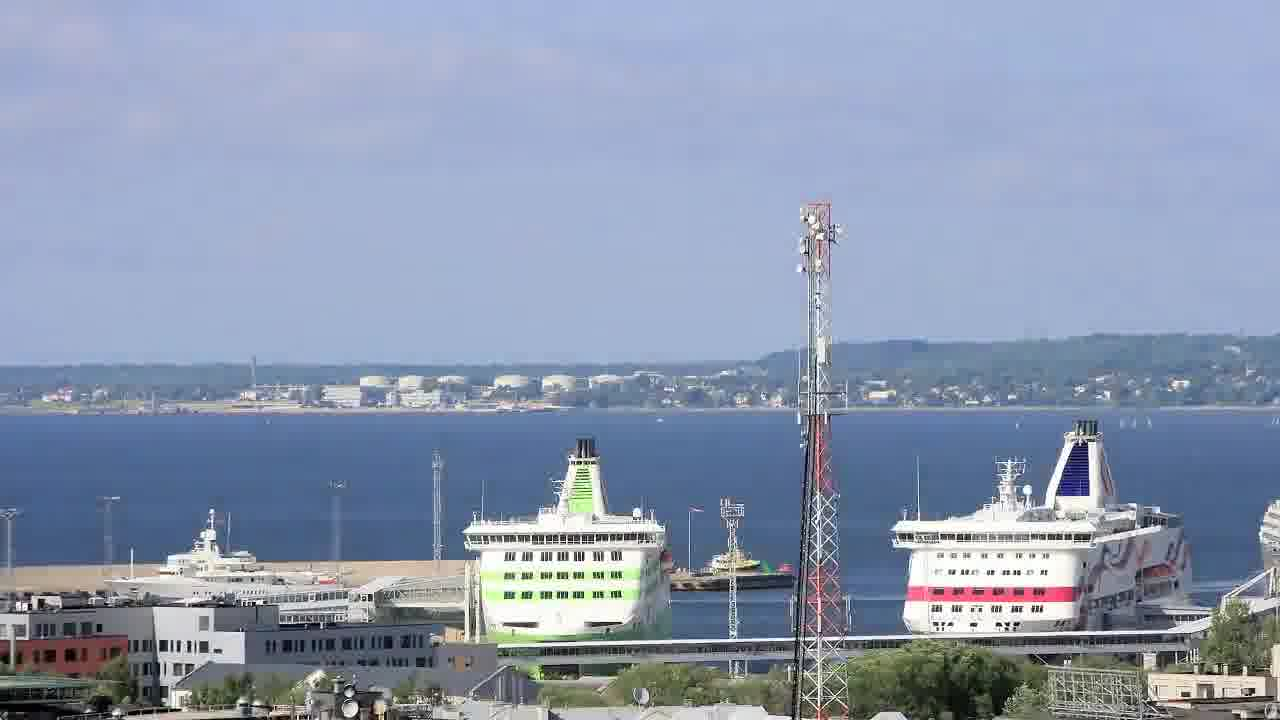type-3: (868, 415, 1225, 638), (436, 434, 694, 670), (89, 506, 356, 615), (1235, 465, 1279, 608)
